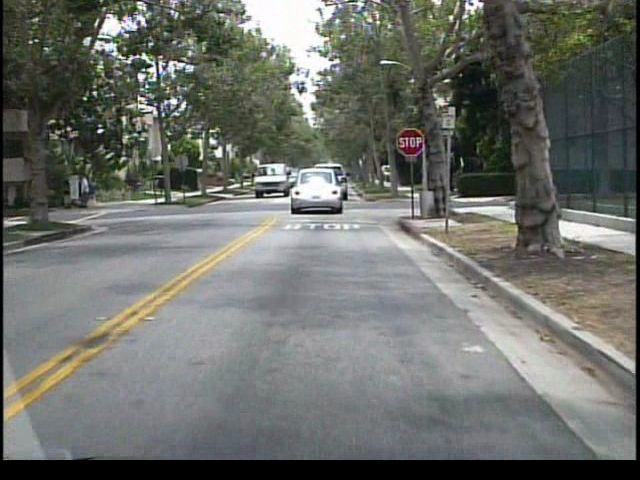person: (63, 167, 77, 212), (82, 166, 96, 211)
